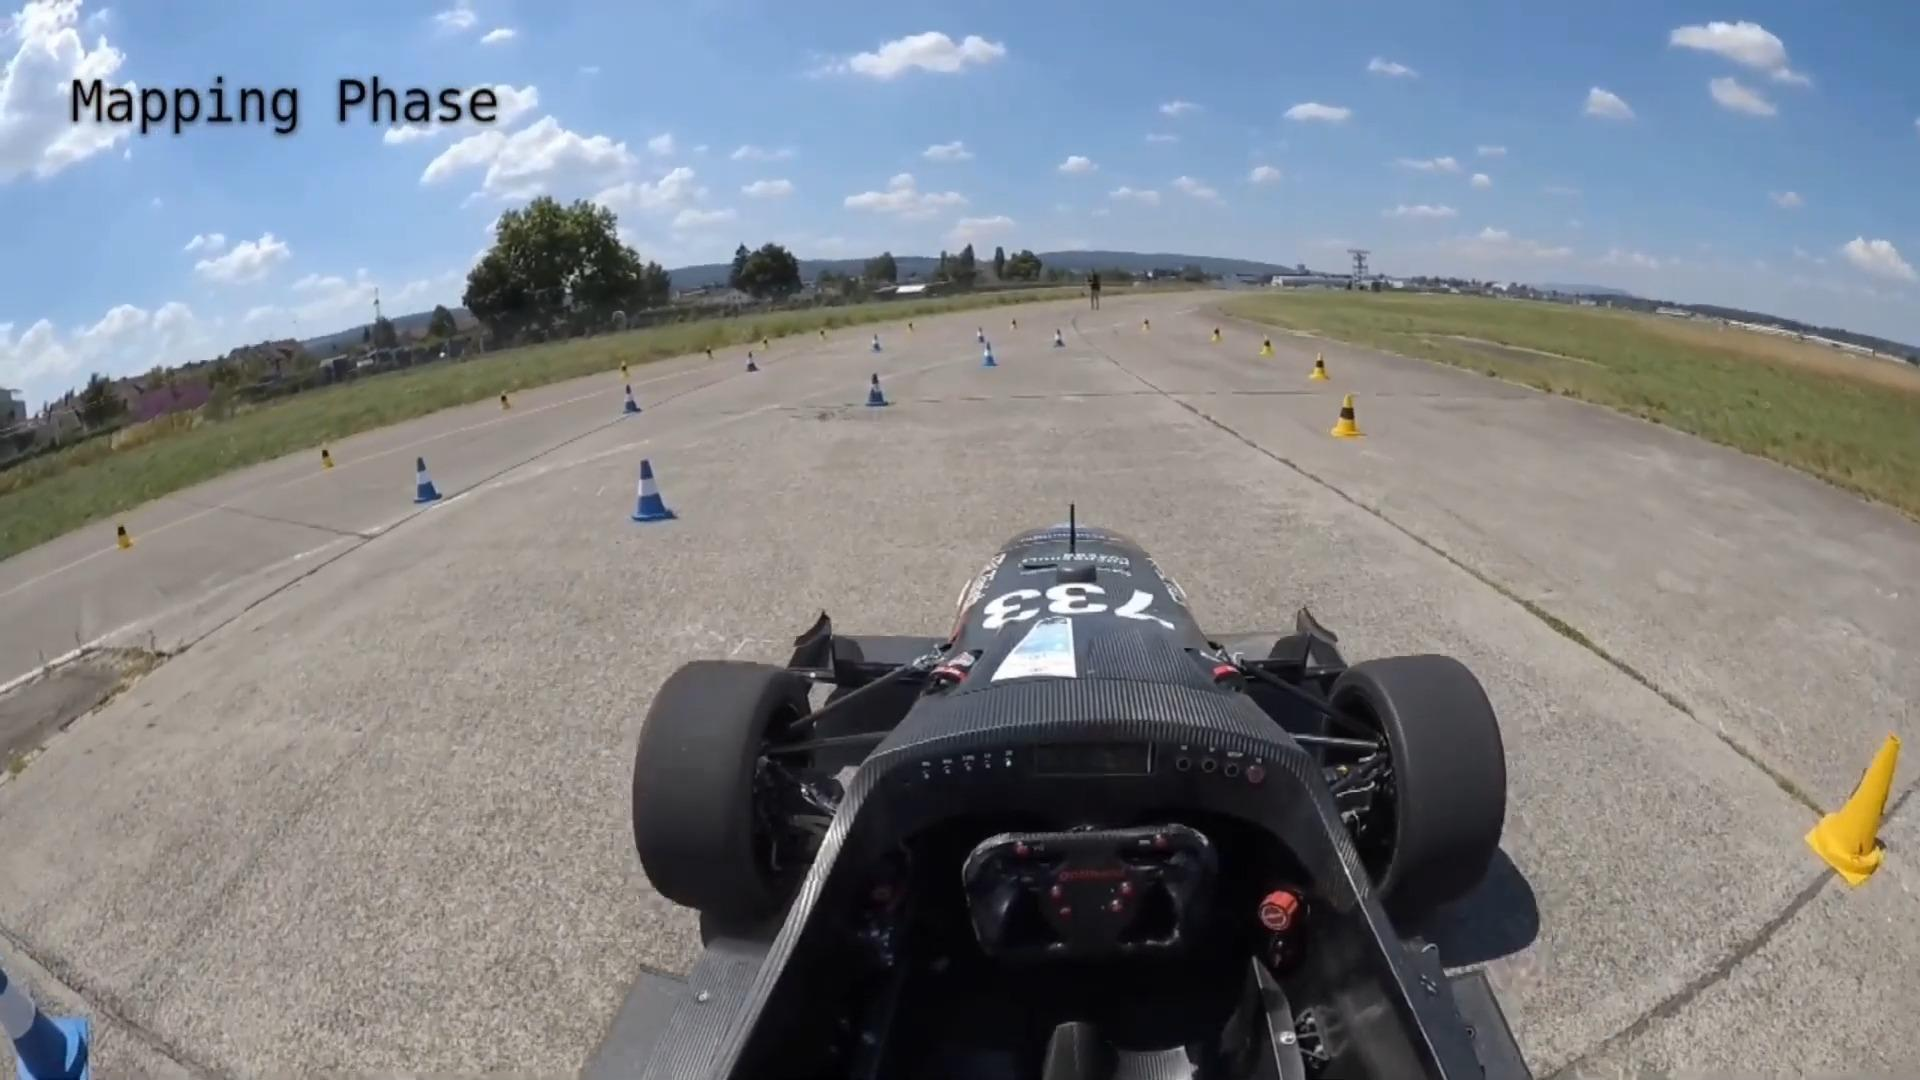blue_cone: (0, 965, 92, 1080), (634, 459, 674, 524), (413, 456, 442, 504), (865, 372, 887, 406), (622, 384, 642, 417), (981, 339, 997, 367)
yellow_cone: (1805, 735, 1903, 886), (1331, 390, 1364, 440), (1309, 349, 1332, 384)
